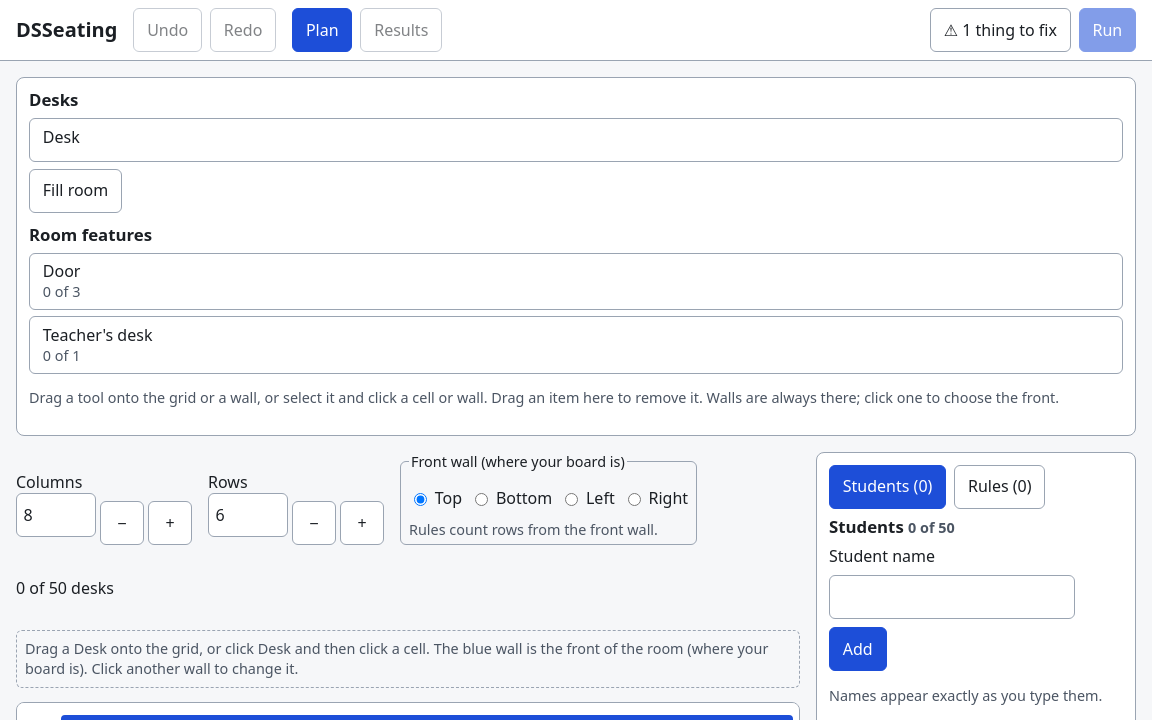
Scenario: Plan mode › refuses a door on a grid cell and a desk on a wall, in plain words
The width and height of the screenshot is (1152, 720).
Click the button "Door 0 of 3" at (62, 271), box top-left (29, 253), bottom-right (1123, 310)
(page scrolled)
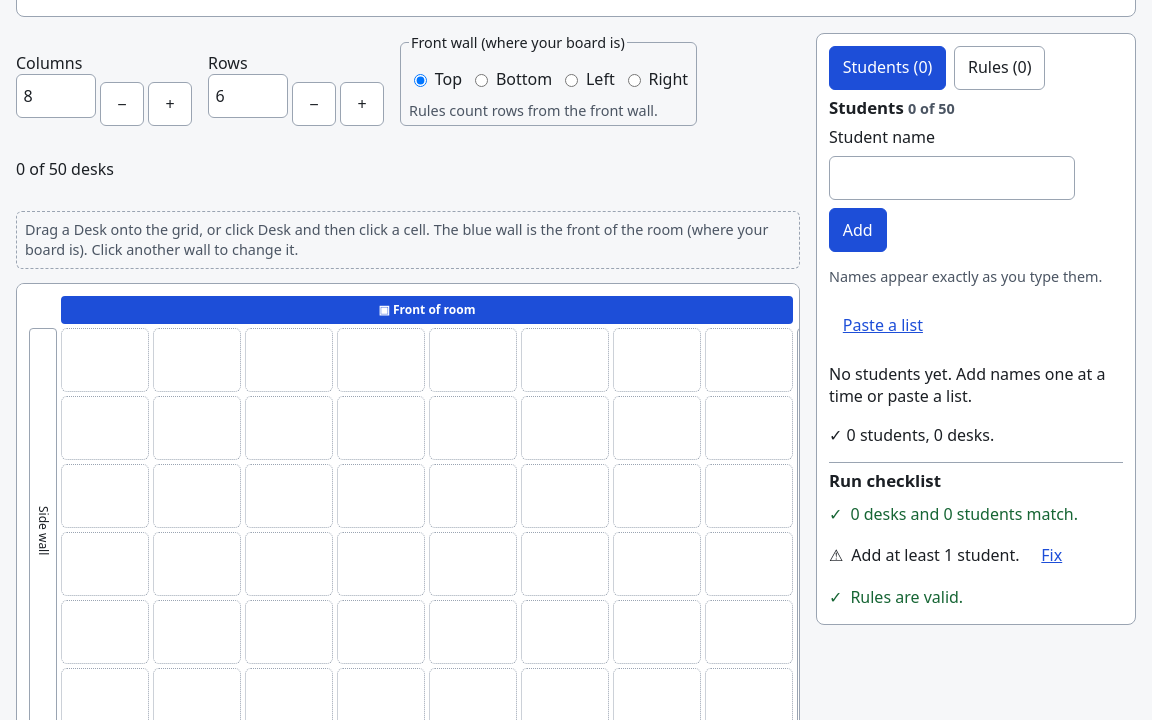
Click the cell named "Screen row 1, column 1, empty" at (105, 360), box top-left (61, 328), bottom-right (149, 392)
(page scrolled)
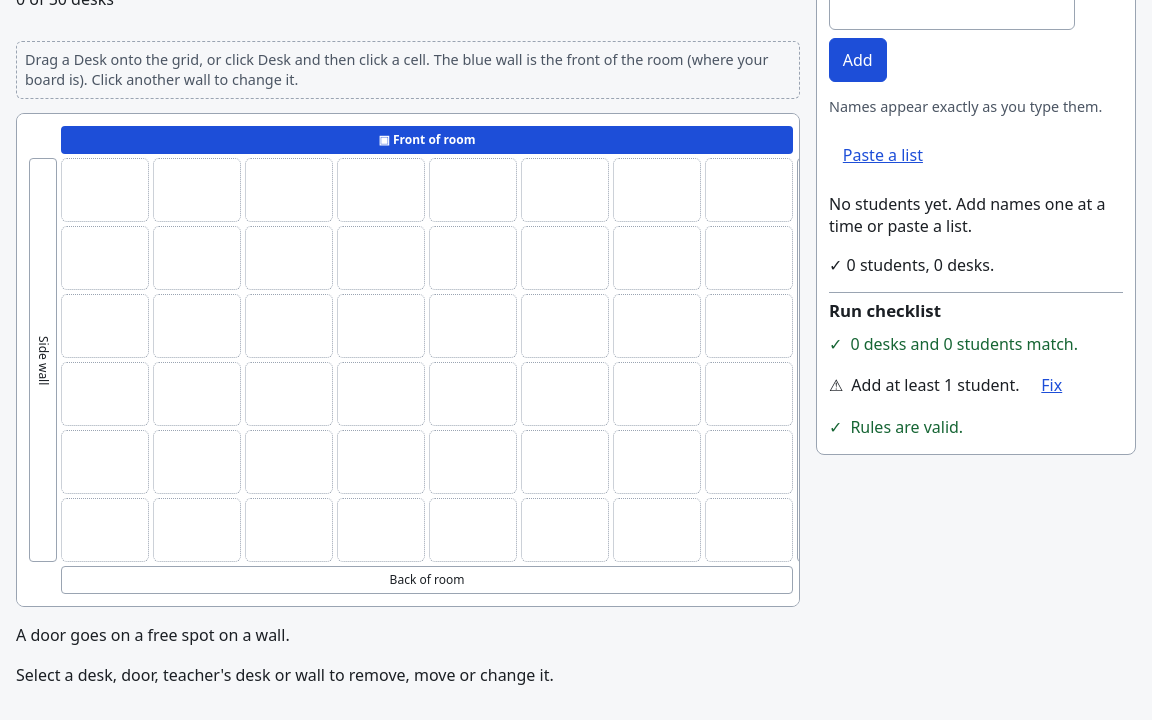
Expected: the text "A door goes on a free spot on a wall." is shown, top-left (16, 624), bottom-right (290, 646)
